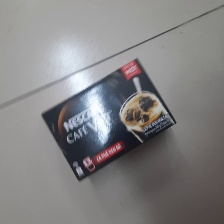CF Viet: (40, 57, 177, 183)
